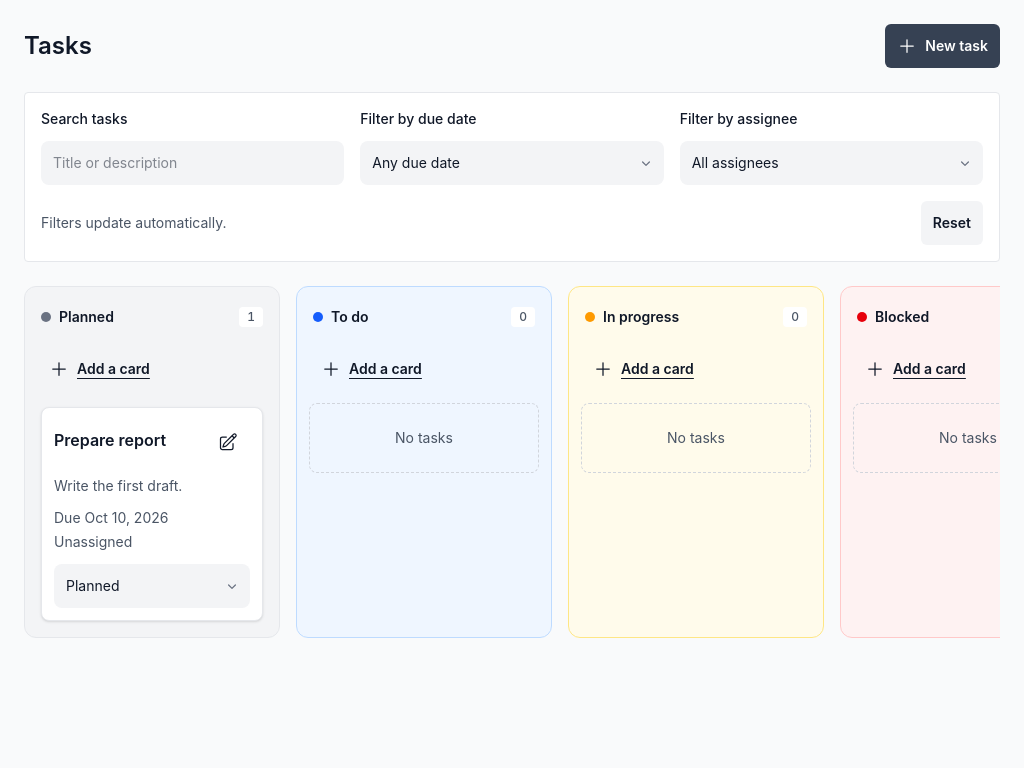
Test: edits an existing task
Step 1. Click the button named "Edit Prepare report" → (228, 442), box [206,420,250,464]
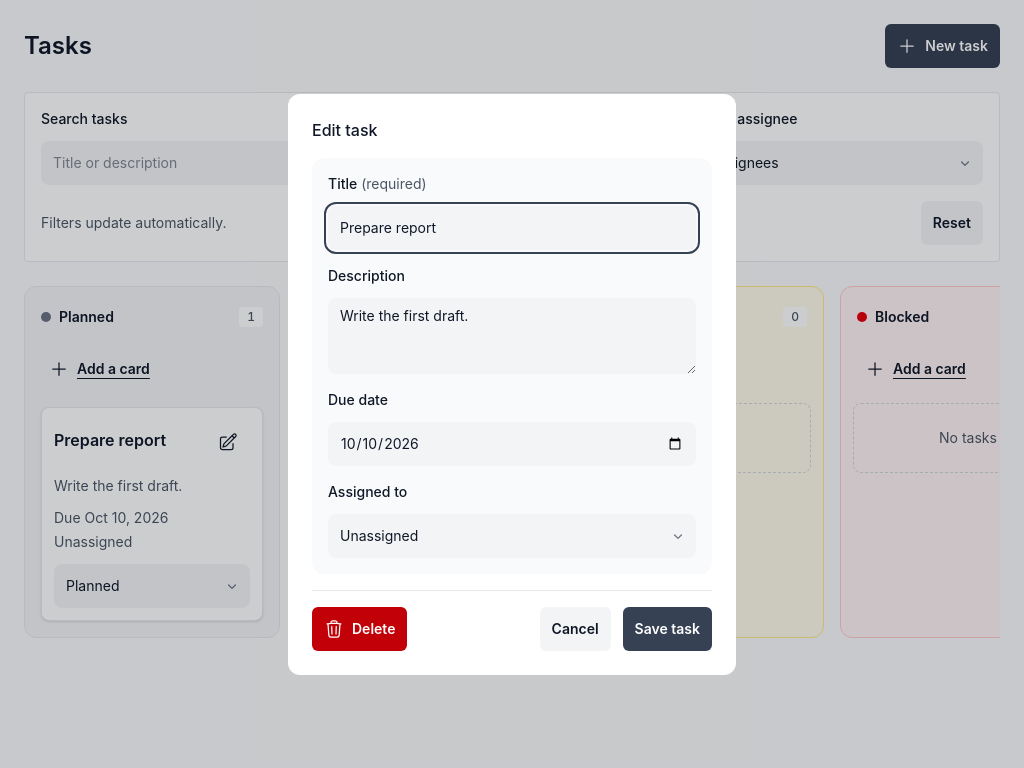
Step 2. Replace the text in the field labelled "Title" with "Final report" → (512, 228), box [328,206,696,250]
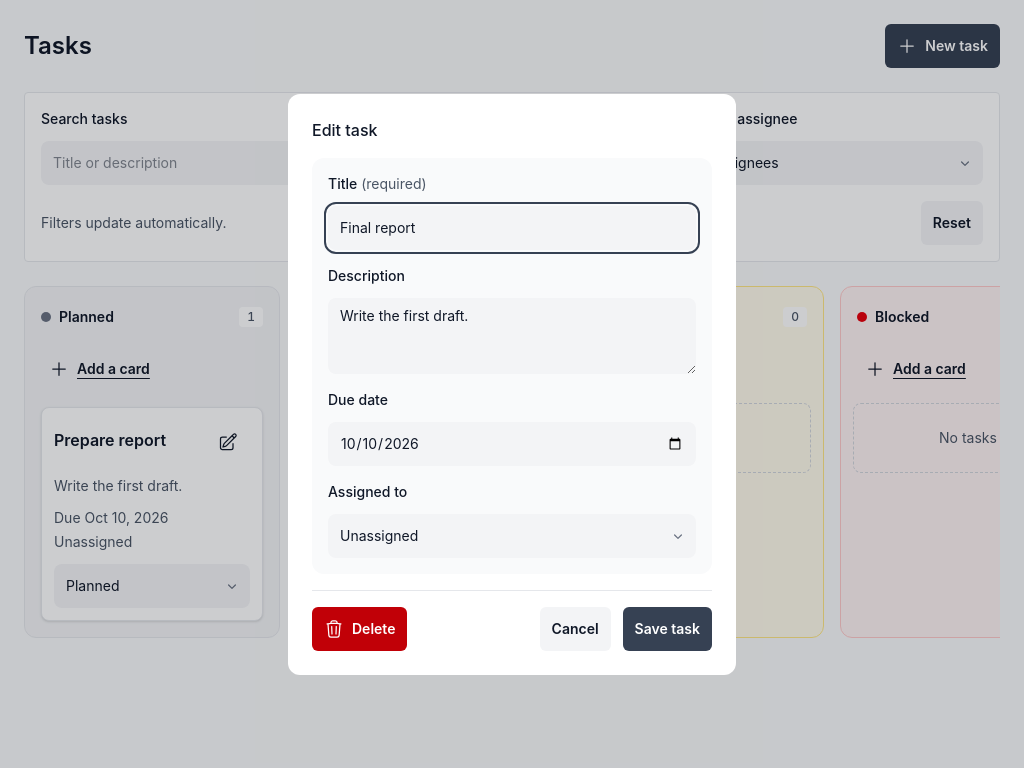
Step 3. Click the button "Save task" → (667, 628), box [623,606,712,650]
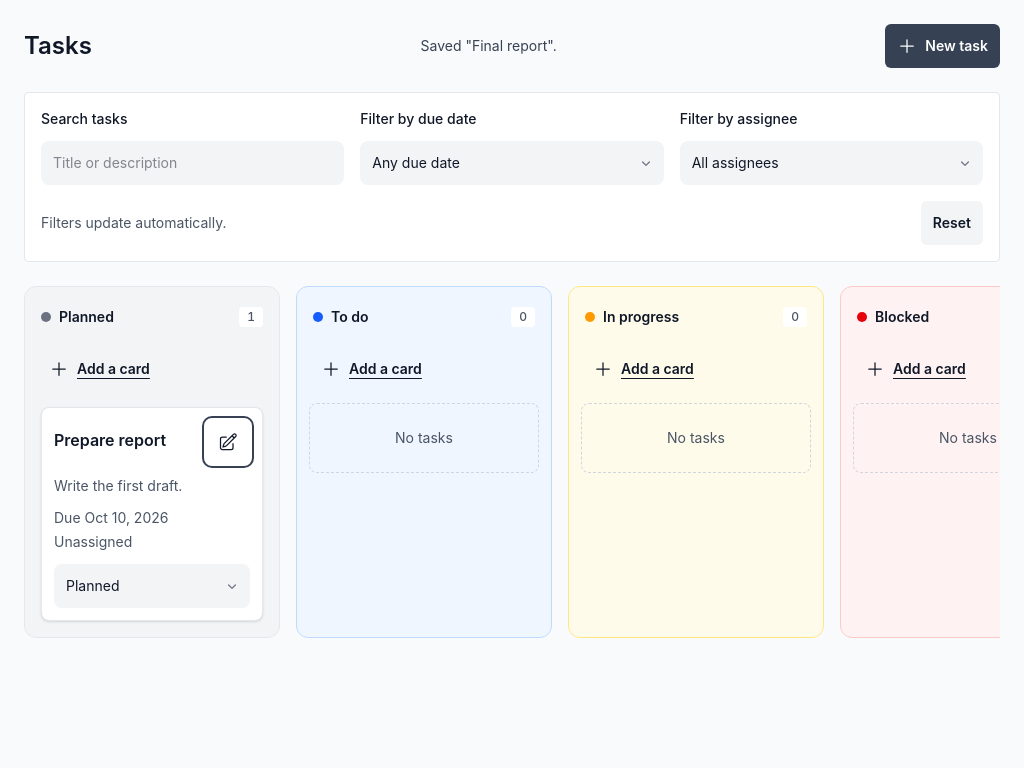
Result: the text "Saved \"Final report\"." is shown at [420,36,557,56]
